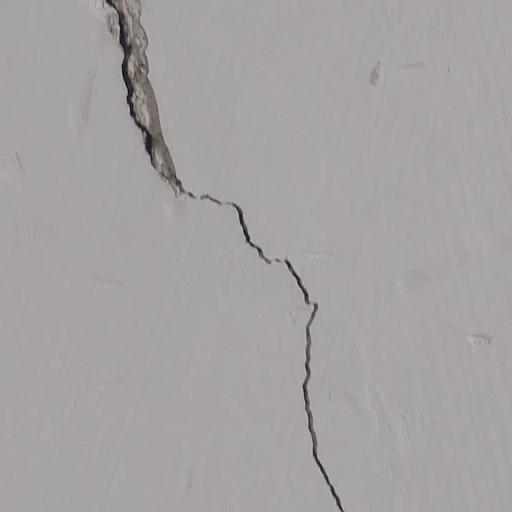major_crack: (91, 0, 362, 512)
